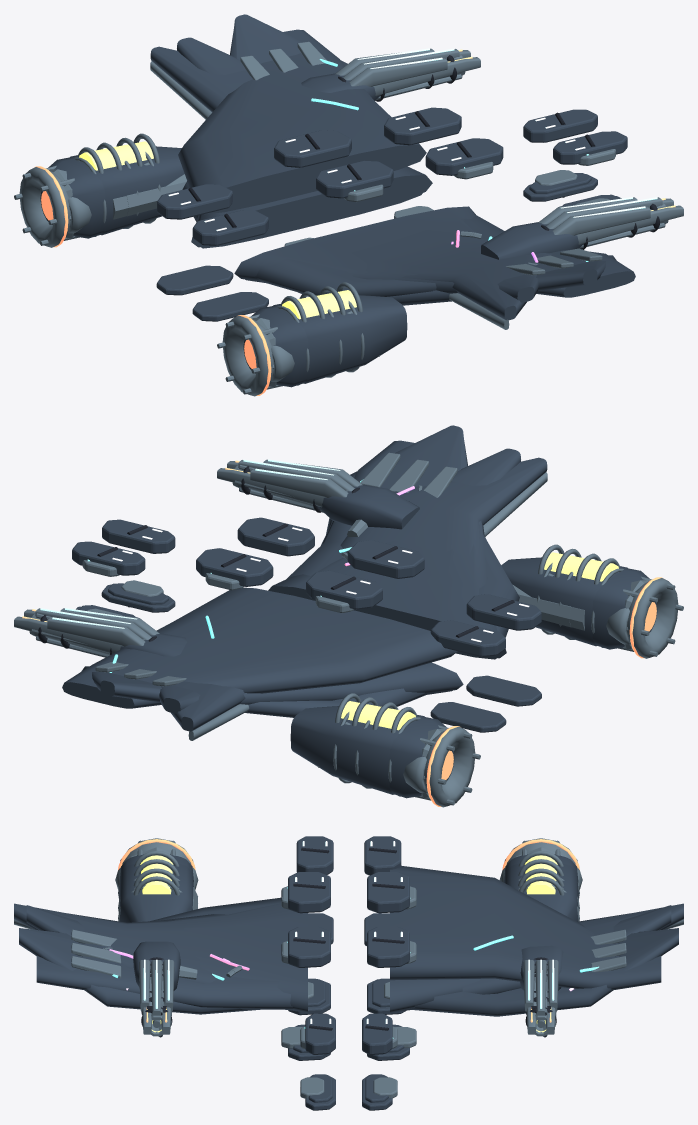
Rendered from echo.glb.
The picture shows the model from 3 angles, top to bottom: view 1: azimuth 30°, elevation 25°; view 2: azimuth 150°, elevation 25°; view 3: azimuth 270°, elevation 25°; orthographic projection. The views are drawn at different scales.
Visible parts, largest first — view 1: w_vane Fitting gunmetal, p_heavy Fitting gunmetal, w_razor Fitting gunmetal, w_phantom Fitting gunmetal, e_twin Fitting gunmetal, e_nova Brushed fitting edges, m_array Brushed fitting edges, w_prism Fitting gunmetal, e_nova Fitting gunmetal, m_heavy Fitting gunmetal, m_siege Brushed fitting edges, e_fusion Brushed fitting edges (+10 smaller); view 2: w_vane Fitting gunmetal, p_heavy Fitting gunmetal, w_razor Fitting gunmetal, w_phantom Fitting gunmetal, e_twin Fitting gunmetal, e_nova Brushed fitting edges, w_prism Fitting gunmetal, m_array Brushed fitting edges, e_nova Fitting gunmetal, m_heavy Fitting gunmetal, w_vane Brushed fitting edges, e_fusion Brushed fitting edges (+12 smaller); view 3: w_vane Fitting gunmetal, p_heavy Fitting gunmetal, w_razor Fitting gunmetal, w_prism Fitting gunmetal, w_phantom Fitting gunmetal, e_twin Fitting gunmetal, m_array Brushed fitting edges, w_vane Brushed fitting edges, p_light Brushed fitting edges, e_fusion Brushed fitting edges, m_heavy Fitting gunmetal, e_fusion e_fusion emitter (+9 smaller).
Boxes of the visible parts, left/top/right/bottom form: w_vane Fitting gunmetal: left=178, top=29, right=635, bottom=297; p_heavy Fitting gunmetal: left=156, top=107, right=627, bottom=321; w_razor Fitting gunmetal: left=177, top=37, right=538, bottom=302; w_phantom Fitting gunmetal: left=150, top=46, right=552, bottom=320; e_twin Fitting gunmetal: left=70, top=146, right=407, bottom=383; e_nova Brushed fitting edges: left=14, top=165, right=282, bottom=396; m_array Brushed fitting edges: left=335, top=48, right=662, bottom=235; w_prism Fitting gunmetal: left=182, top=14, right=616, bottom=305; e_nova Fitting gunmetal: left=40, top=157, right=308, bottom=387; m_heavy Fitting gunmetal: left=301, top=73, right=583, bottom=259; m_siege Brushed fitting edges: left=373, top=50, right=683, bottom=244; e_fusion Brushed fitting edges: left=49, top=133, right=379, bottom=387; w_vane Fitting gunmetal: left=62, top=440, right=519, bottom=708; p_heavy Fitting gunmetal: left=72, top=517, right=541, bottom=732; w_razor Fitting gunmetal: left=159, top=448, right=520, bottom=713; w_phantom Fitting gunmetal: left=171, top=457, right=547, bottom=731; e_twin Fitting gunmetal: left=290, top=557, right=627, bottom=794; e_nova Brushed fitting edges: left=415, top=576, right=683, bottom=807; w_prism Fitting gunmetal: left=81, top=425, right=485, bottom=717; m_array Brushed fitting edges: left=35, top=459, right=362, bottom=646; e_nova Fitting gunmetal: left=389, top=568, right=657, bottom=798; m_heavy Fitting gunmetal: left=120, top=484, right=419, bottom=656; w_vane Brushed fitting edges: left=95, top=452, right=457, bottom=686; e_fusion Brushed fitting edges: left=318, top=544, right=648, bottom=798; w_vane Fitting gunmetal: left=36, top=865, right=661, bottom=1009; p_heavy Fitting gunmetal: left=288, top=836, right=409, bottom=1110; w_razor Fitting gunmetal: left=26, top=903, right=671, bottom=1012; w_prism Fitting gunmetal: left=19, top=928, right=678, bottom=1016; w_phantom Fitting gunmetal: left=14, top=903, right=683, bottom=1012; e_twin Fitting gunmetal: left=119, top=863, right=578, bottom=922; m_array Brushed fitting edges: left=139, top=960, right=558, bottom=1020; w_vane Brushed fitting edges: left=71, top=929, right=626, bottom=978; p_light Brushed fitting edges: left=281, top=886, right=416, bottom=1098; e_fusion Brushed fitting edges: left=131, top=847, right=566, bottom=895; m_heavy Fitting gunmetal: left=133, top=941, right=563, bottom=990; e_fusion e_fusion emitter: left=140, top=855, right=557, bottom=894.
Bounding box in the file's own units: 43.24 × 10.77 × 55.78.
